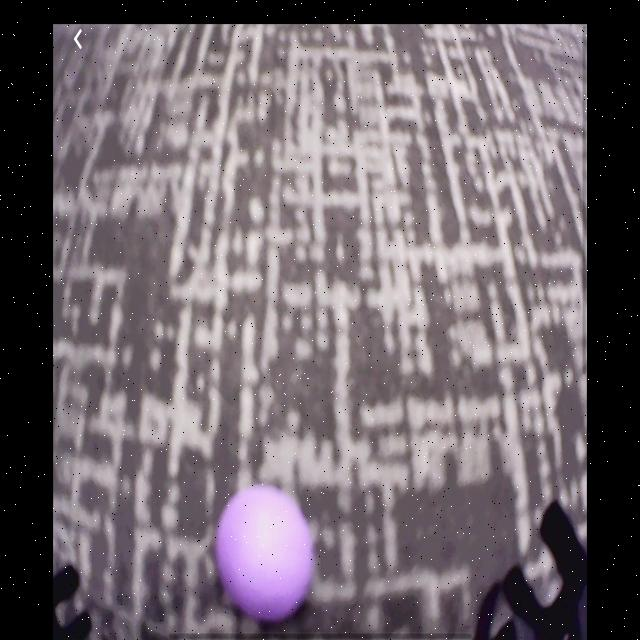ball: (216, 485, 313, 624)
